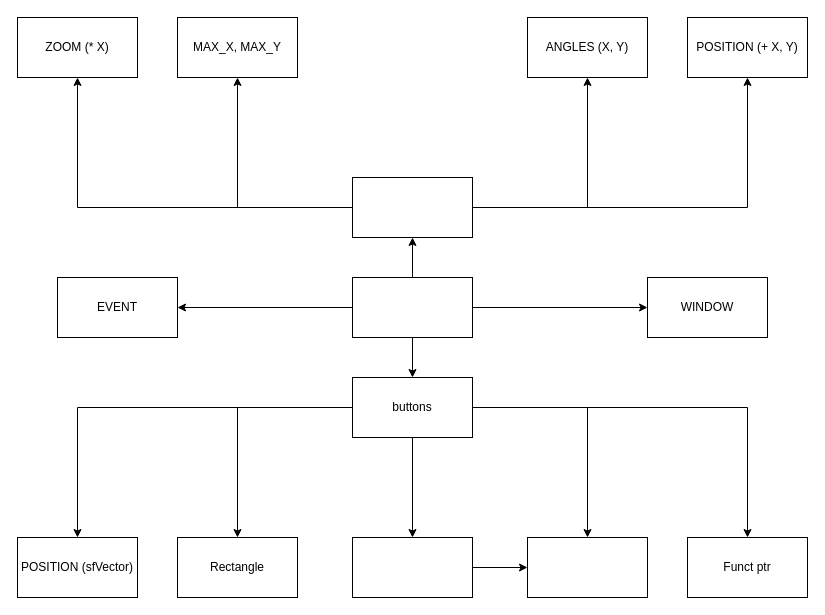
This 825x615 diagram has some shape labels left out. Here are the shapes that lost their labels. From the top down, the centre of each, then its label:
At (x=412, y=207): "settings".
At (x=412, y=307): "engine".
At (x=412, y=567): "FONT".
At (x=587, y=567): "TEXT".
